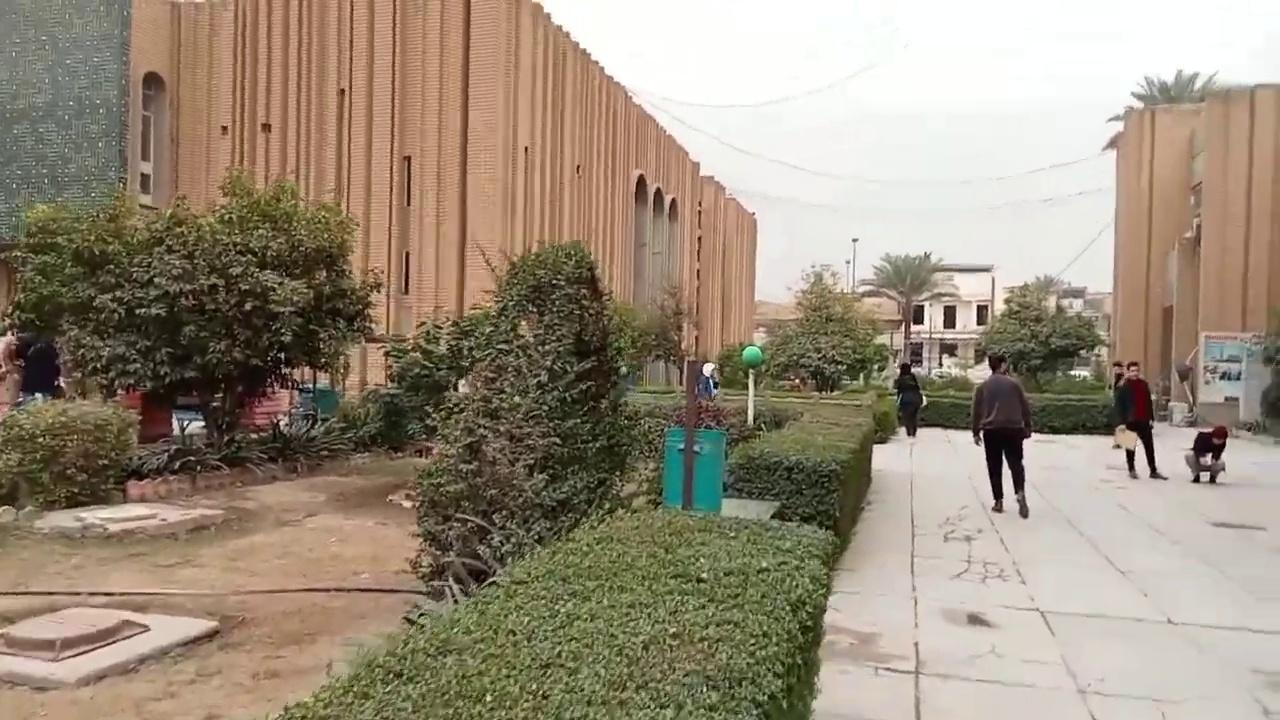person: (971, 352, 1032, 518), (1111, 360, 1169, 480), (1183, 424, 1228, 483), (893, 362, 923, 437), (1109, 360, 1126, 448), (700, 358, 719, 401)
tree: (4, 165, 384, 456), (383, 237, 663, 600), (2, 187, 168, 405), (760, 267, 890, 394), (0, 394, 141, 511), (979, 273, 1107, 390), (1101, 67, 1221, 152), (858, 249, 944, 364), (645, 279, 695, 388), (1130, 67, 1220, 106)
